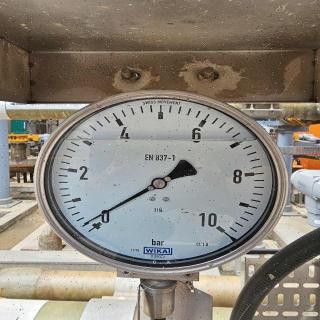gauge: (32, 95, 298, 271), (197, 211, 235, 245), (85, 209, 111, 235), (151, 176, 167, 190), (80, 219, 90, 229)
